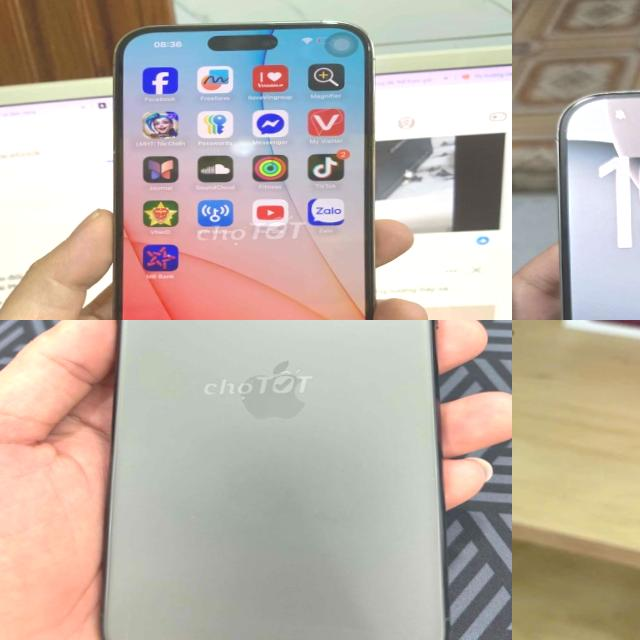gen_11: (104, 320, 447, 640)
gen_14: (80, 12, 395, 320)
gen_16: (558, 90, 640, 320)
